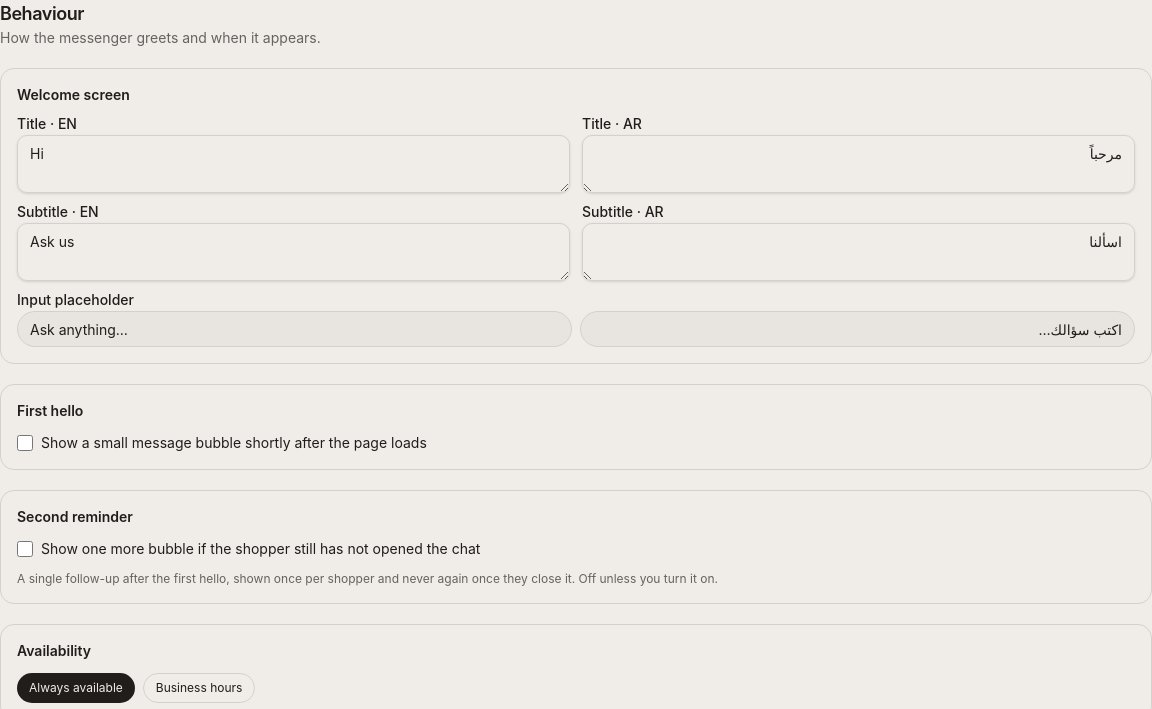
Test: BehaviourEditor opening hours defaults › keeps a time zone the merchant already chose
Click the button "Business hours" at [199, 688], box [143,673,255,703]
(page scrolled)
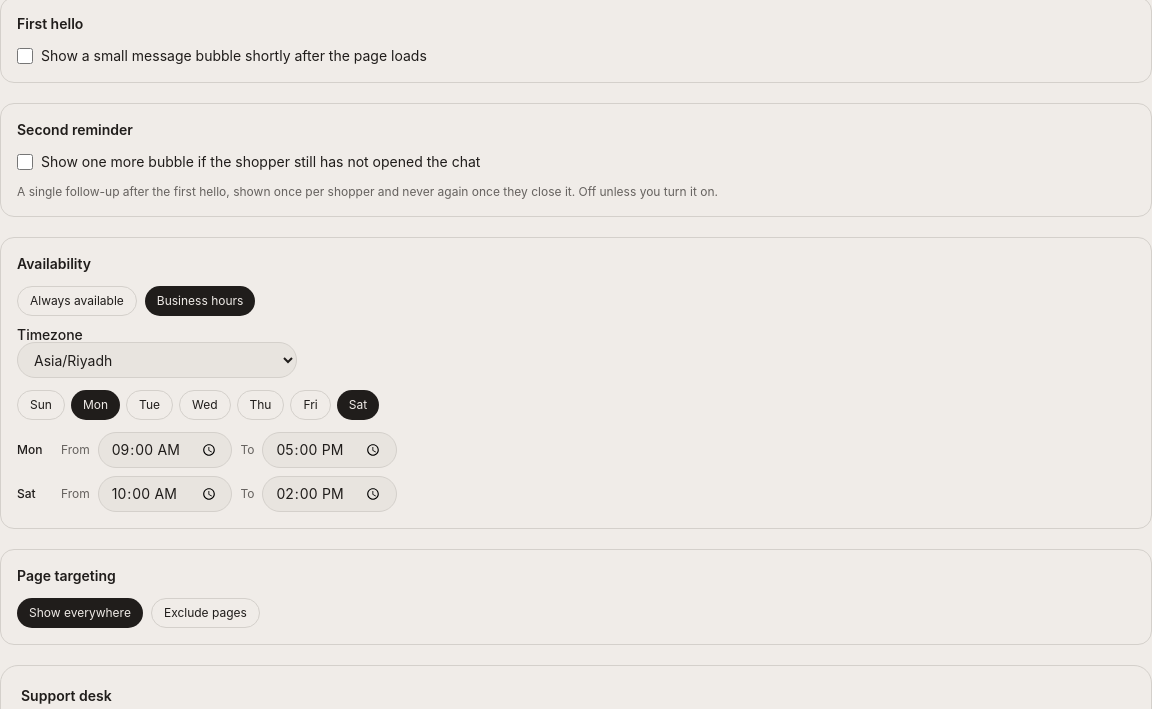
Result: the dropdown labelled "Timezone" shows "Asia/Riyadh" at [17,342,297,378]
